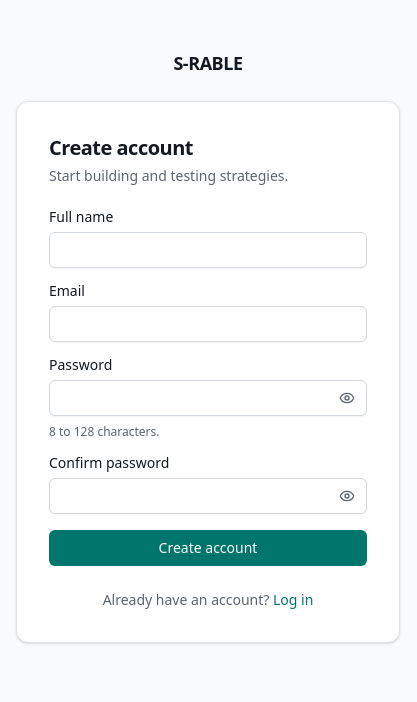
RegisterPage › shows other failures in one alert, without server internals
Type " Asha Rao " into the field labelled "Full name" at (208, 250), box [49,232,367,268]
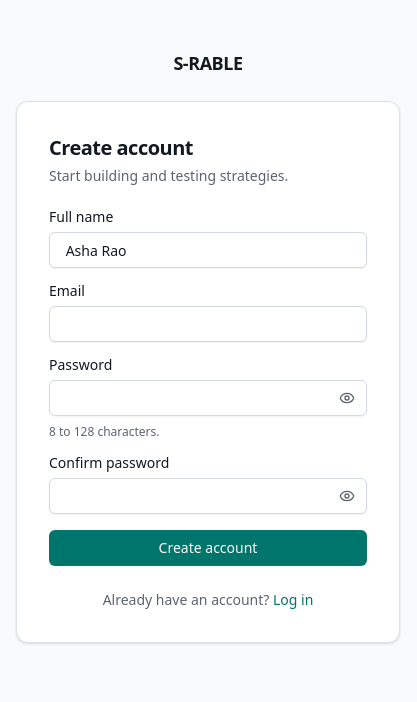
Type " asha@example.com " into the field labelled "Email" at (208, 324), box [49,306,367,342]
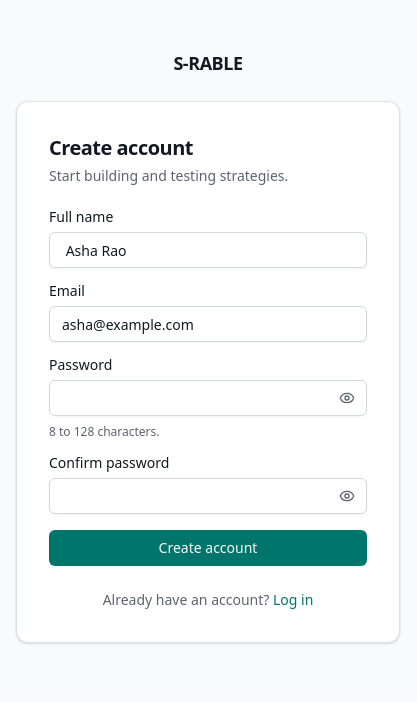
Type "password123" into the password field labelled "Password" at (208, 398), box [49,380,367,416]
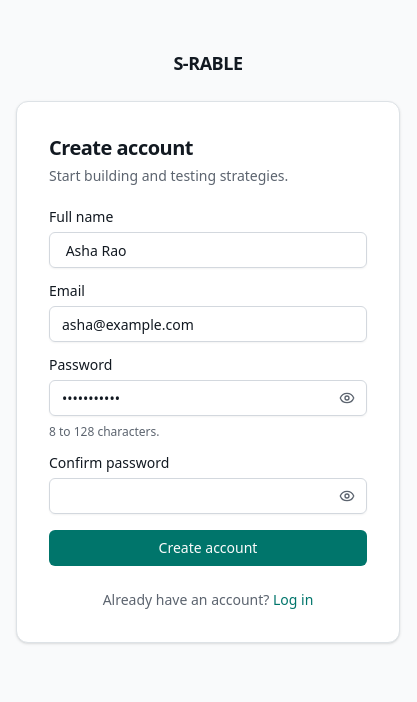
Type "password123" into the password field labelled "Confirm password" at (208, 496), box [49,478,367,514]
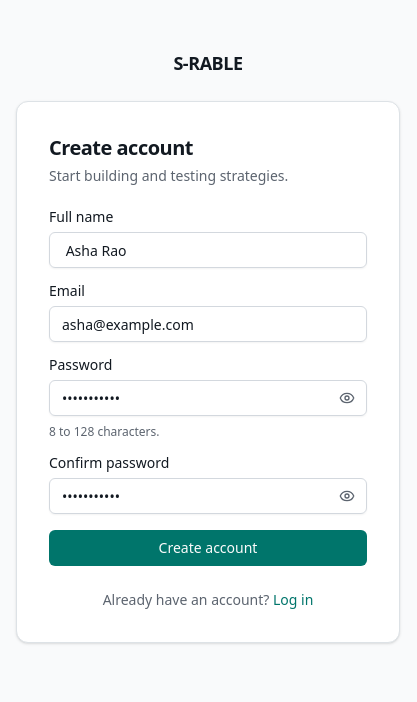
Click the button "Create account" at (208, 548), box [49,530,367,566]
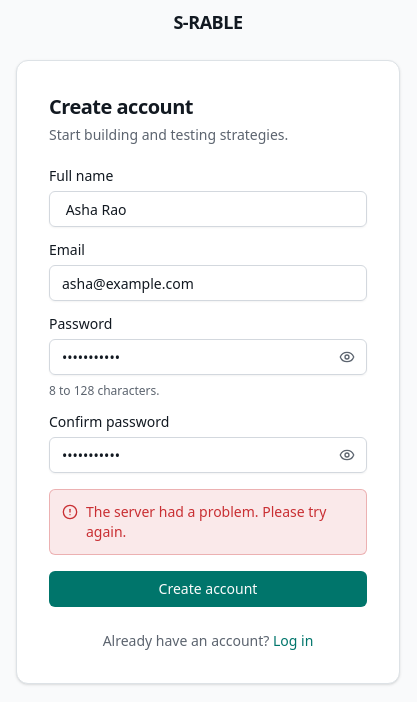
Expected: the text "The server had a problem. Please try again." is shown, [86,502,354,542]
